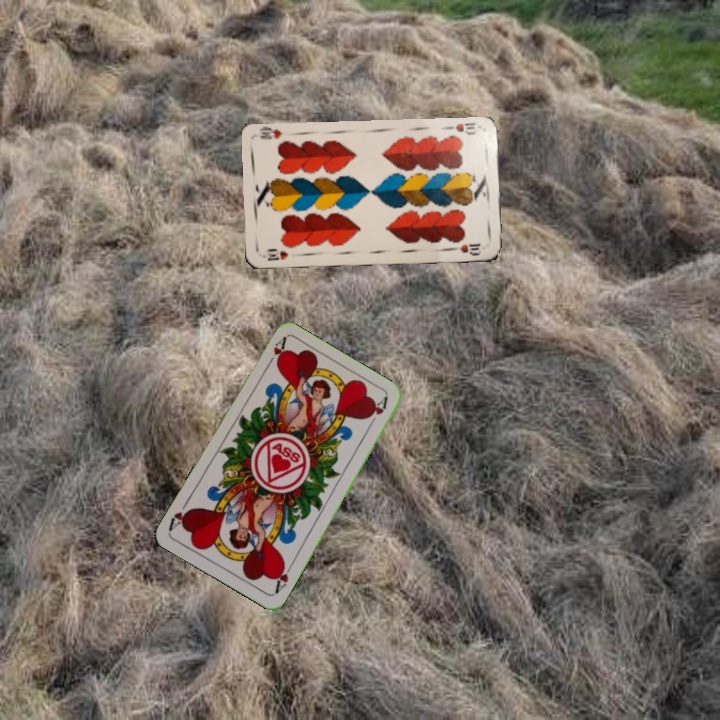H10: (443, 118, 478, 137), (258, 246, 290, 263)
HA: (261, 334, 289, 371), (270, 559, 296, 596)
